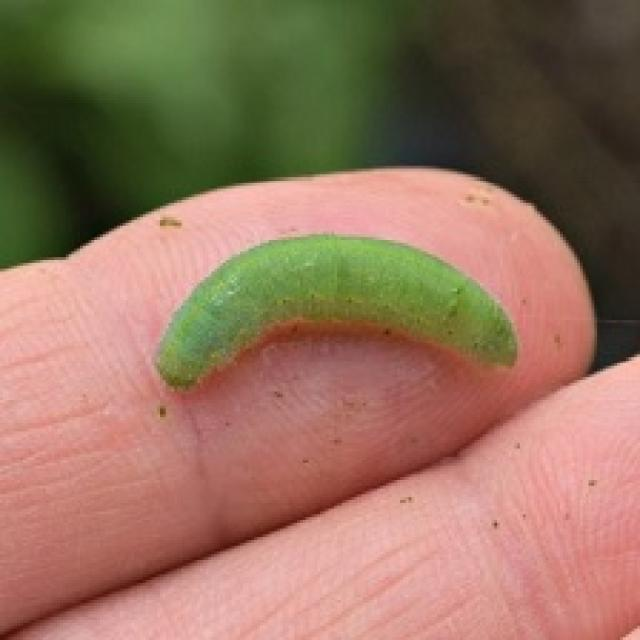Cabbage-worm: (136, 219, 533, 423)
